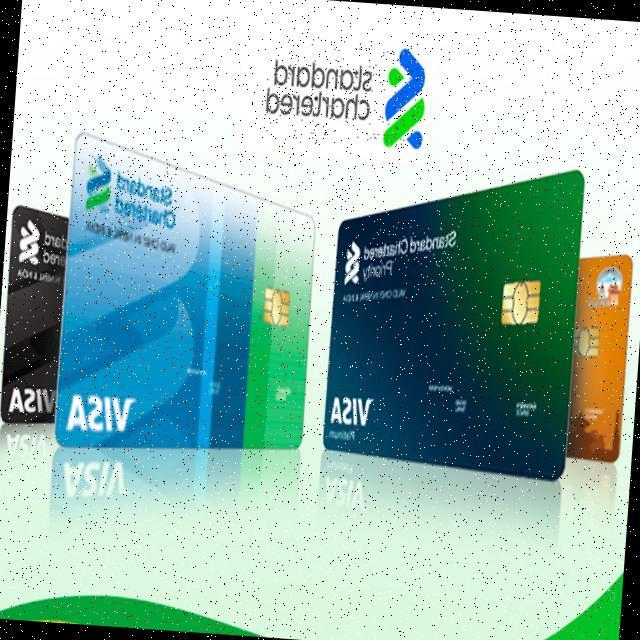Standard Chartered: (262, 36, 430, 152), (84, 153, 179, 232), (363, 222, 457, 267), (18, 219, 42, 265), (343, 240, 362, 286)
